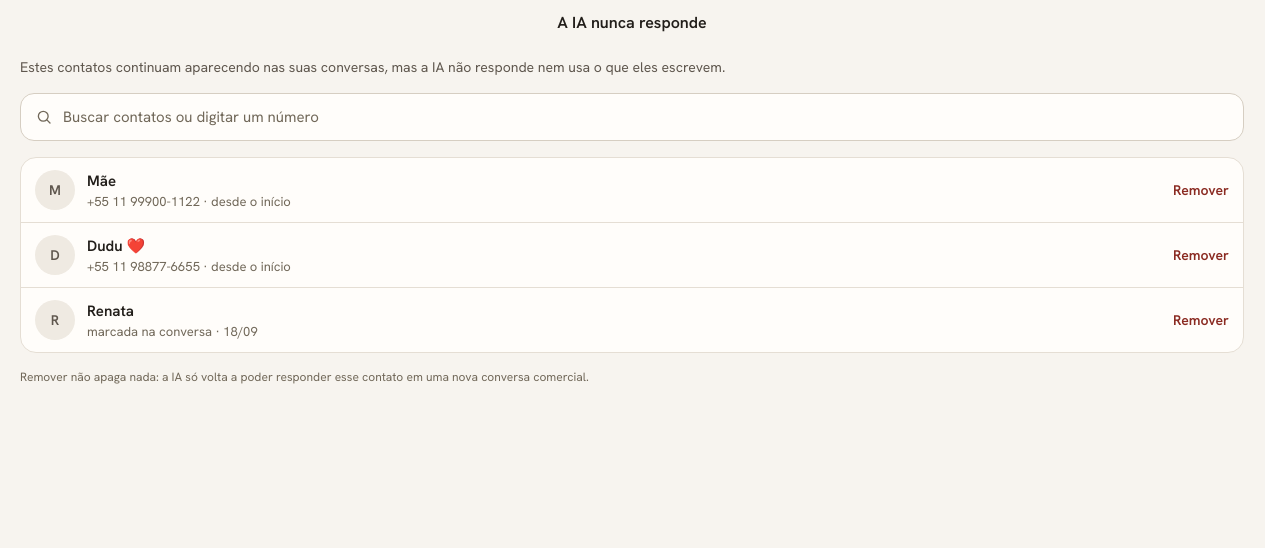
Test case: Goal140 a busca › com um pedido em curso, os botões do bloco ficam desabilitados
The width and height of the screenshot is (1265, 548).
Expected: the text "Mãe" is shown, [87, 171, 116, 191]
Step 1. Type "11 96666-5555" into the search field labelled "Buscar contatos ou digitar um número" → (646, 117), box [63, 94, 1229, 140]
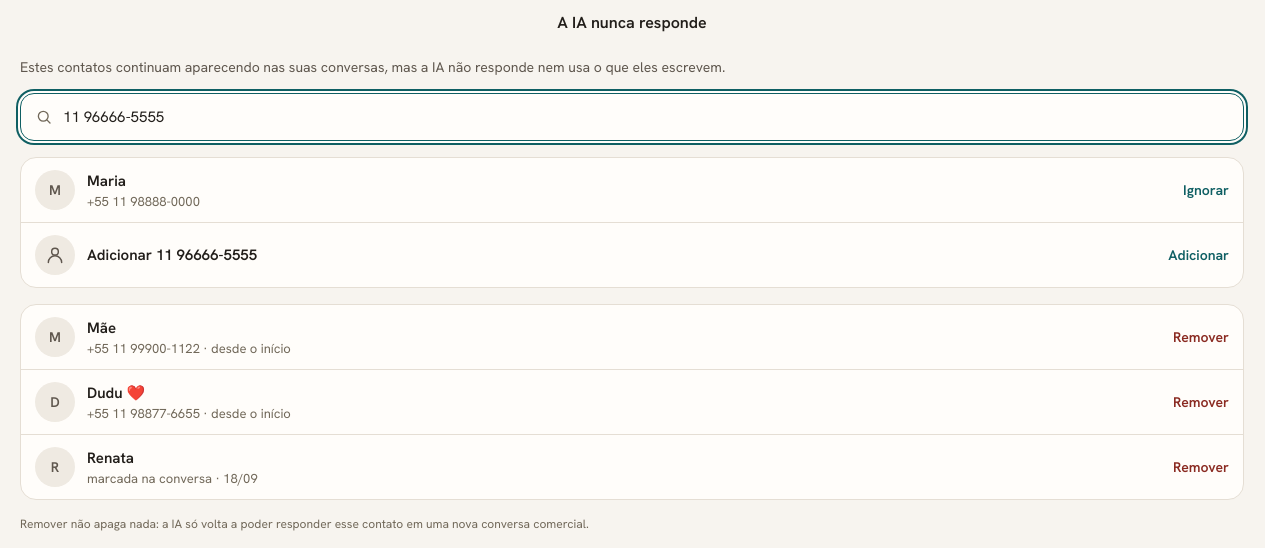
Expected: the text "Maria" is shown, [87, 171, 126, 191]
Step 2. Click the button "Adicionar" → (1199, 255), box [1160, 235, 1237, 275]
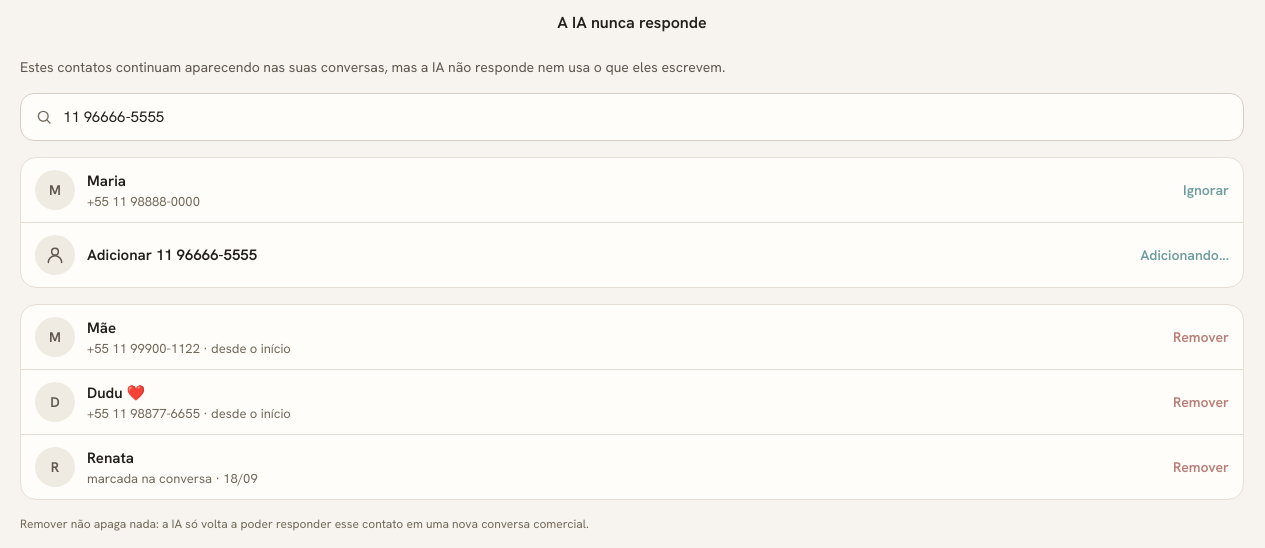
Expected: the button "Adicionando..." is disabled, [1132, 235, 1237, 275]
Expected: the button with aria-label "Ignorar Maria" is disabled, [1175, 170, 1237, 210]
Expected: the button with aria-label "Remover Mãe" is disabled, [1165, 317, 1237, 357]
